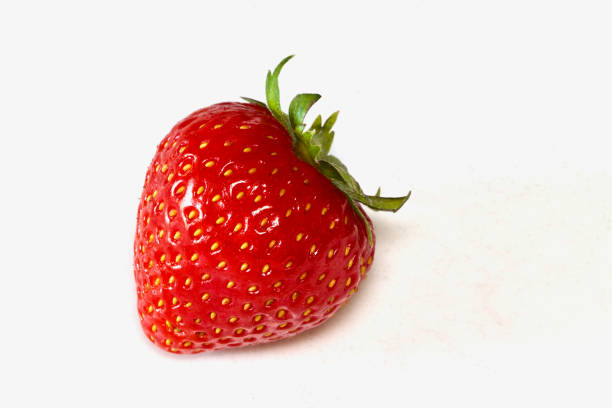Fresa: (131, 91, 382, 361)
